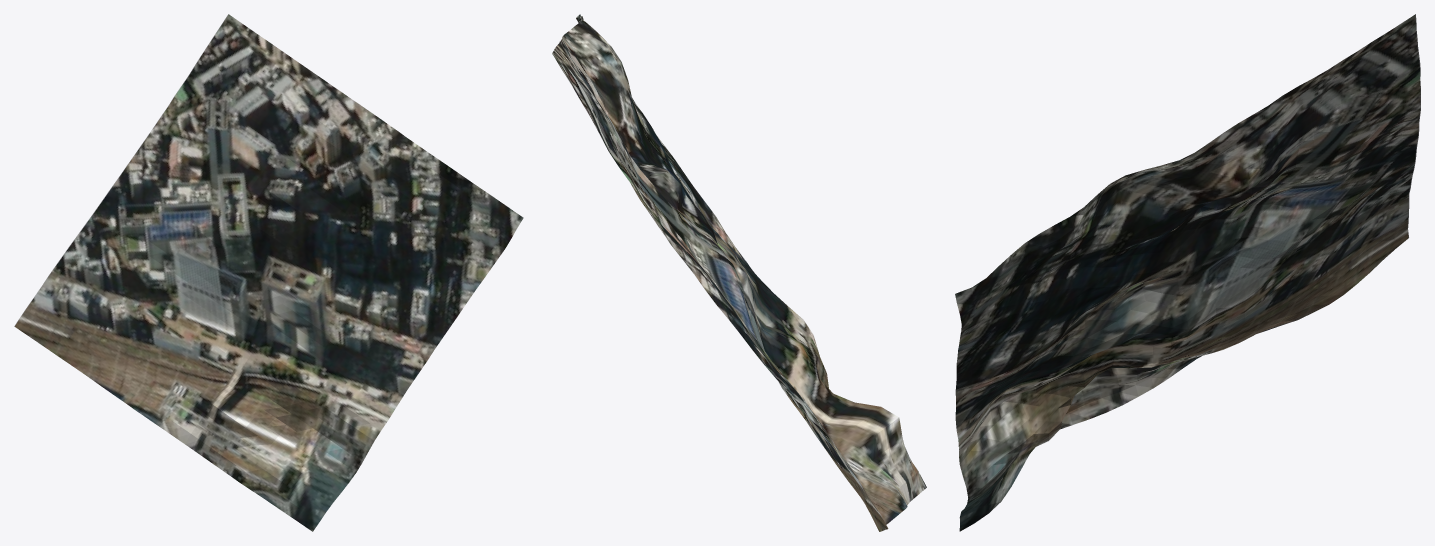
The picture shows the model from 3 angles, left to right: view 1: azimuth 30°, elevation 25°; view 2: azimuth 150°, elevation 25°; view 3: azimuth 270°, elevation 25°; orthographic projection. The views are drawn at different scales.
Size of the model in its own units: 538 by 561 by 416.
Materials: 1 (1 with a texture image).
